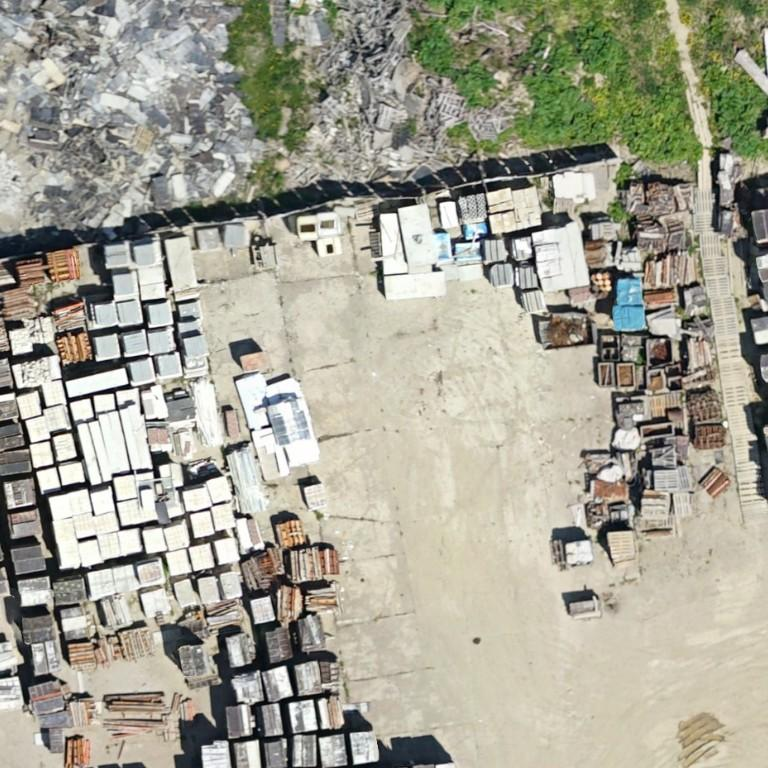hogweed: (522, 25, 698, 159), (416, 27, 499, 100), (714, 82, 764, 155)
